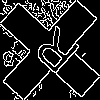R: (25, 25, 82, 83)
